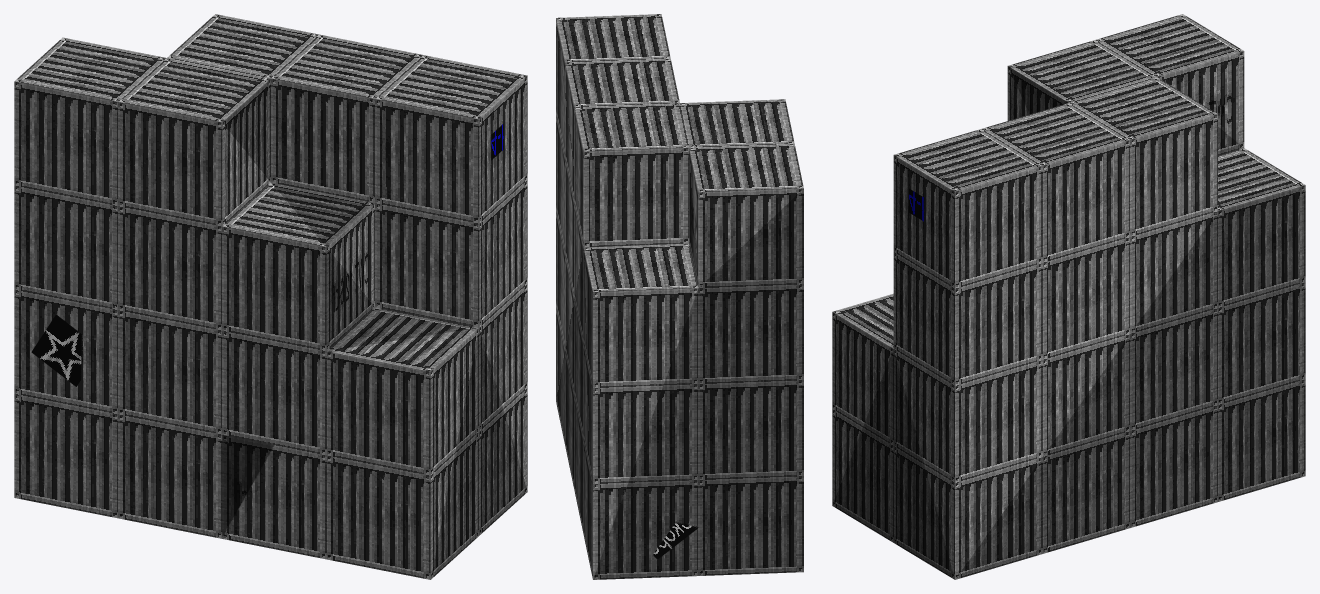
File: primary_104.glb
The picture shows the model from 3 angles, left to right: view 1: azimuth 30°, elevation 25°; view 2: azimuth 150°, elevation 25°; view 3: azimuth 270°, elevation 25°; orthographic projection. The views are drawn at different scales.
Parts seen in each view (by area): view 1: Object; view 2: Object; view 3: Object.
Boxes of the visible parts, x1=… form: Object: x1=14, y1=14, x2=527, y2=579; Object: x1=556, y1=14, x2=803, y2=579; Object: x1=832, y1=14, x2=1305, y2=579.
Size of the model in its own units: 5.45 by 5.54 by 6.13.
Materials: 8 (8 with a texture image).
